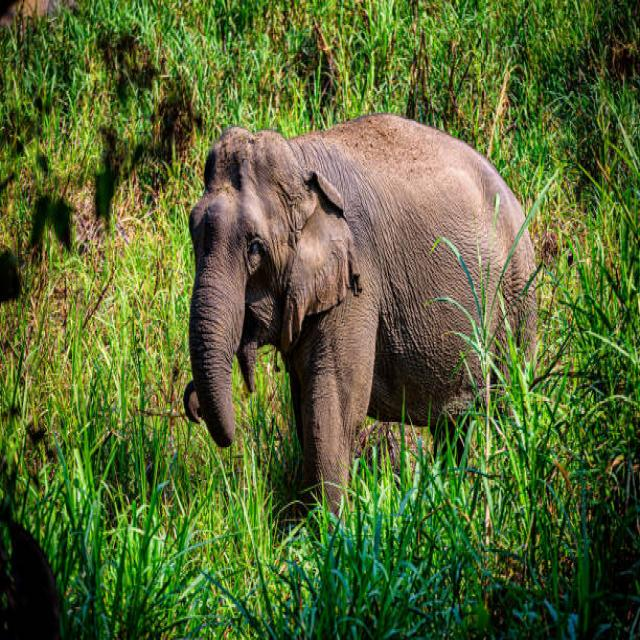Elephant: (178, 109, 548, 521)
